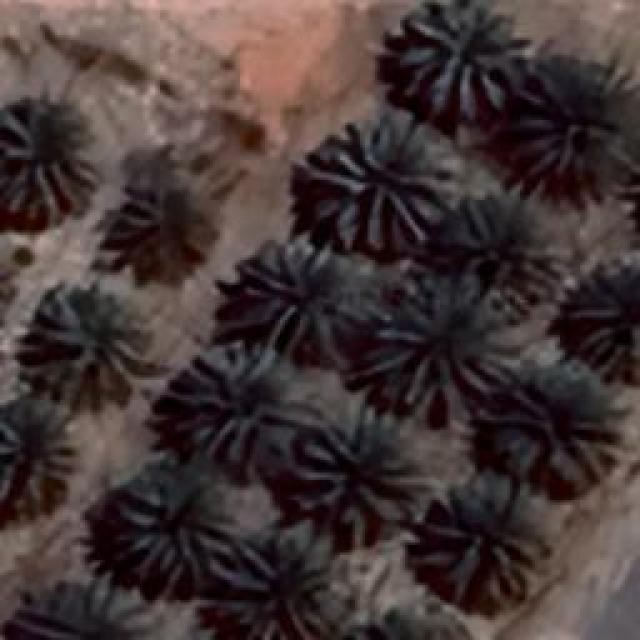PalmTree: (365, 275, 520, 420), (308, 112, 450, 252), (420, 470, 548, 608), (112, 455, 238, 583), (168, 342, 302, 462), (300, 407, 425, 535), (395, 0, 530, 118), (242, 240, 370, 358), (20, 285, 148, 400), (214, 530, 334, 640), (98, 182, 220, 288), (510, 70, 625, 178), (0, 100, 95, 225), (508, 374, 598, 482), (0, 398, 78, 512), (459, 202, 549, 300), (5, 577, 135, 640), (574, 272, 638, 380), (346, 606, 475, 640), (0, 234, 22, 335)
